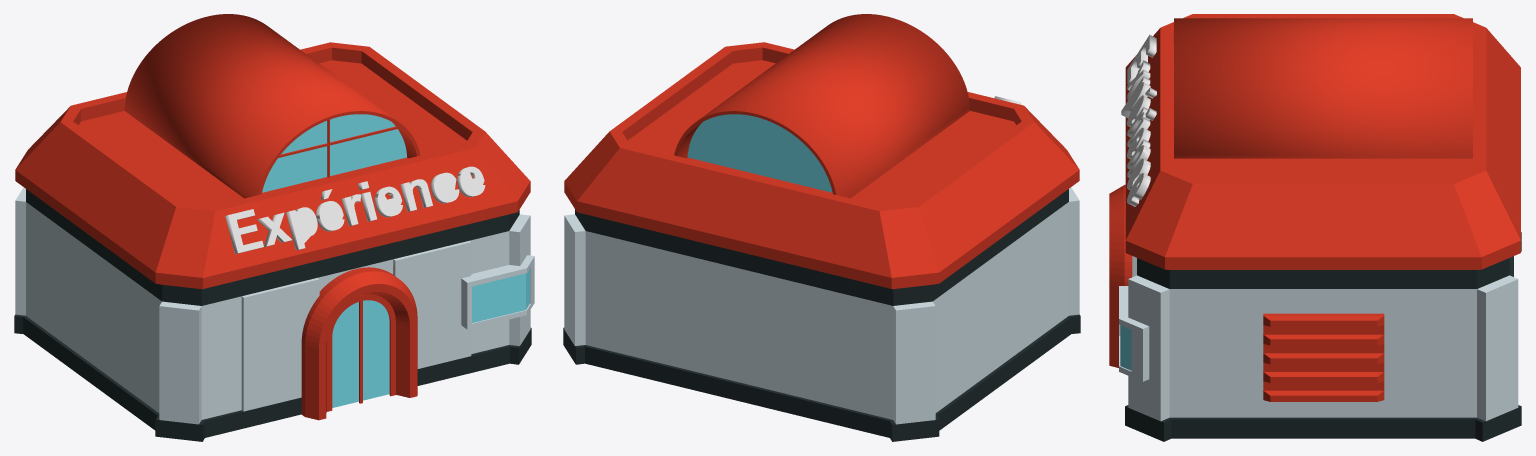
File: PokecenterExperience.fbx
3 views of the same model, side by side, from view 1: azimuth 30°, elevation 25°; view 2: azimuth 150°, elevation 25°; view 3: azimuth 270°, elevation 25° (orthographic). The views are drawn at different scales.
Parts seen in each view (by area): view 1: Experience; view 2: Experience; view 3: Experience.
Part boxes in pixels (x1=…): Experience: x1=14, y1=14, x2=534, y2=441; Experience: x1=563, y1=14, x2=1080, y2=441; Experience: x1=1109, y1=14, x2=1521, y2=441.
Size of the model in its own units: 750 by 520 by 630.
